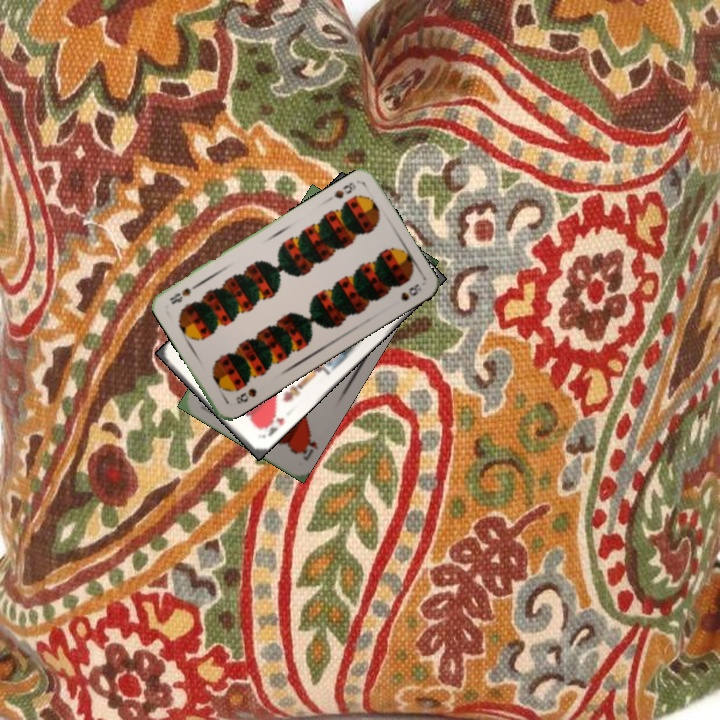HK: (256, 411, 287, 441)
HO: (293, 429, 320, 463)
S8: (329, 178, 359, 201), (231, 384, 259, 407)
